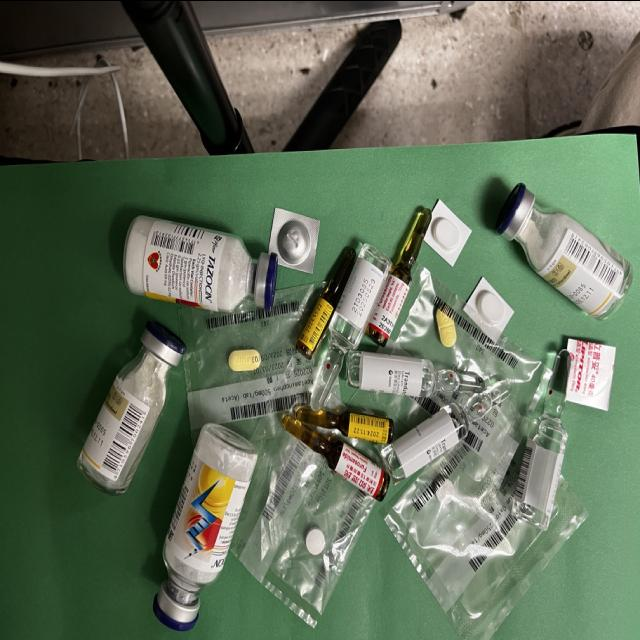Ampoules: (379, 378, 512, 485), (310, 243, 392, 410), (510, 348, 572, 531), (281, 414, 389, 501), (365, 207, 432, 346), (296, 247, 356, 359), (345, 349, 486, 396), (296, 407, 393, 442)
Vials: (152, 422, 257, 631), (76, 320, 186, 495), (495, 181, 633, 319), (122, 214, 278, 312)
